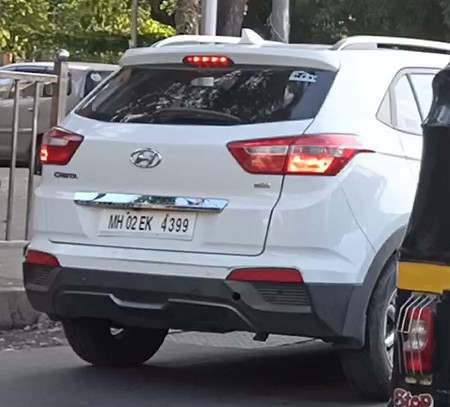MH02EK4399: (99, 209, 196, 237)
